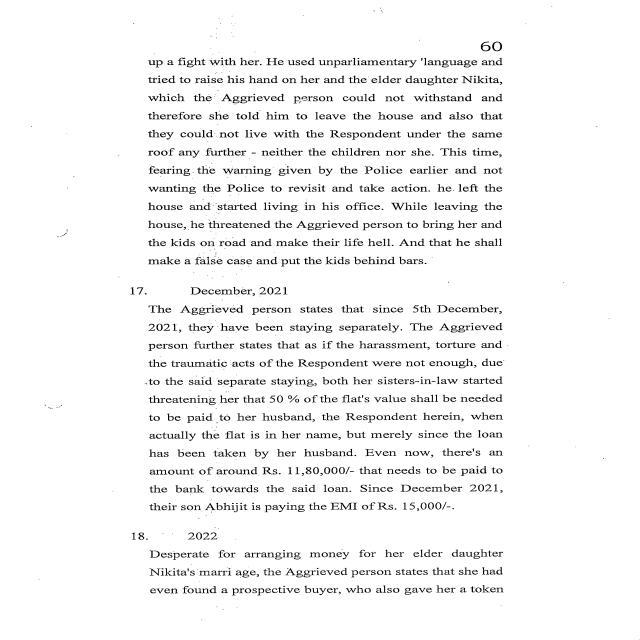page-number: (340, 0, 640, 55)
